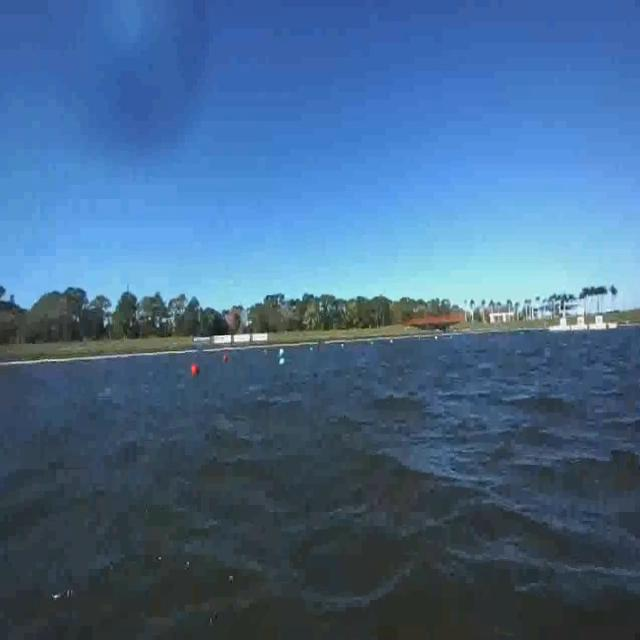green-buoy: (278, 353, 286, 367)
red-buoy: (190, 362, 198, 376)
